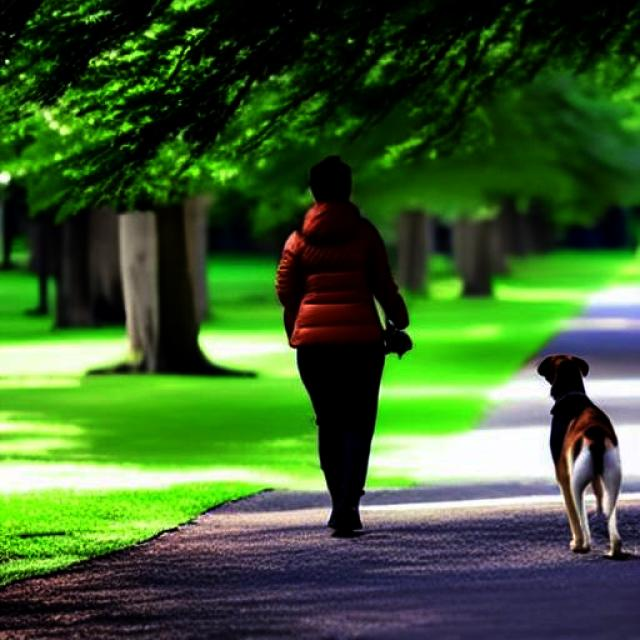Unleashed_Dog: (297, 342, 622, 560)
